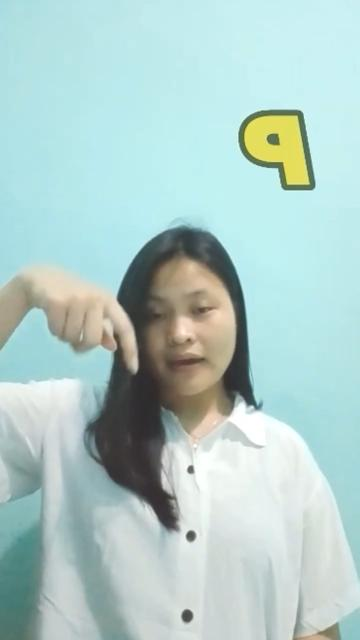P: (21, 267, 142, 377)
